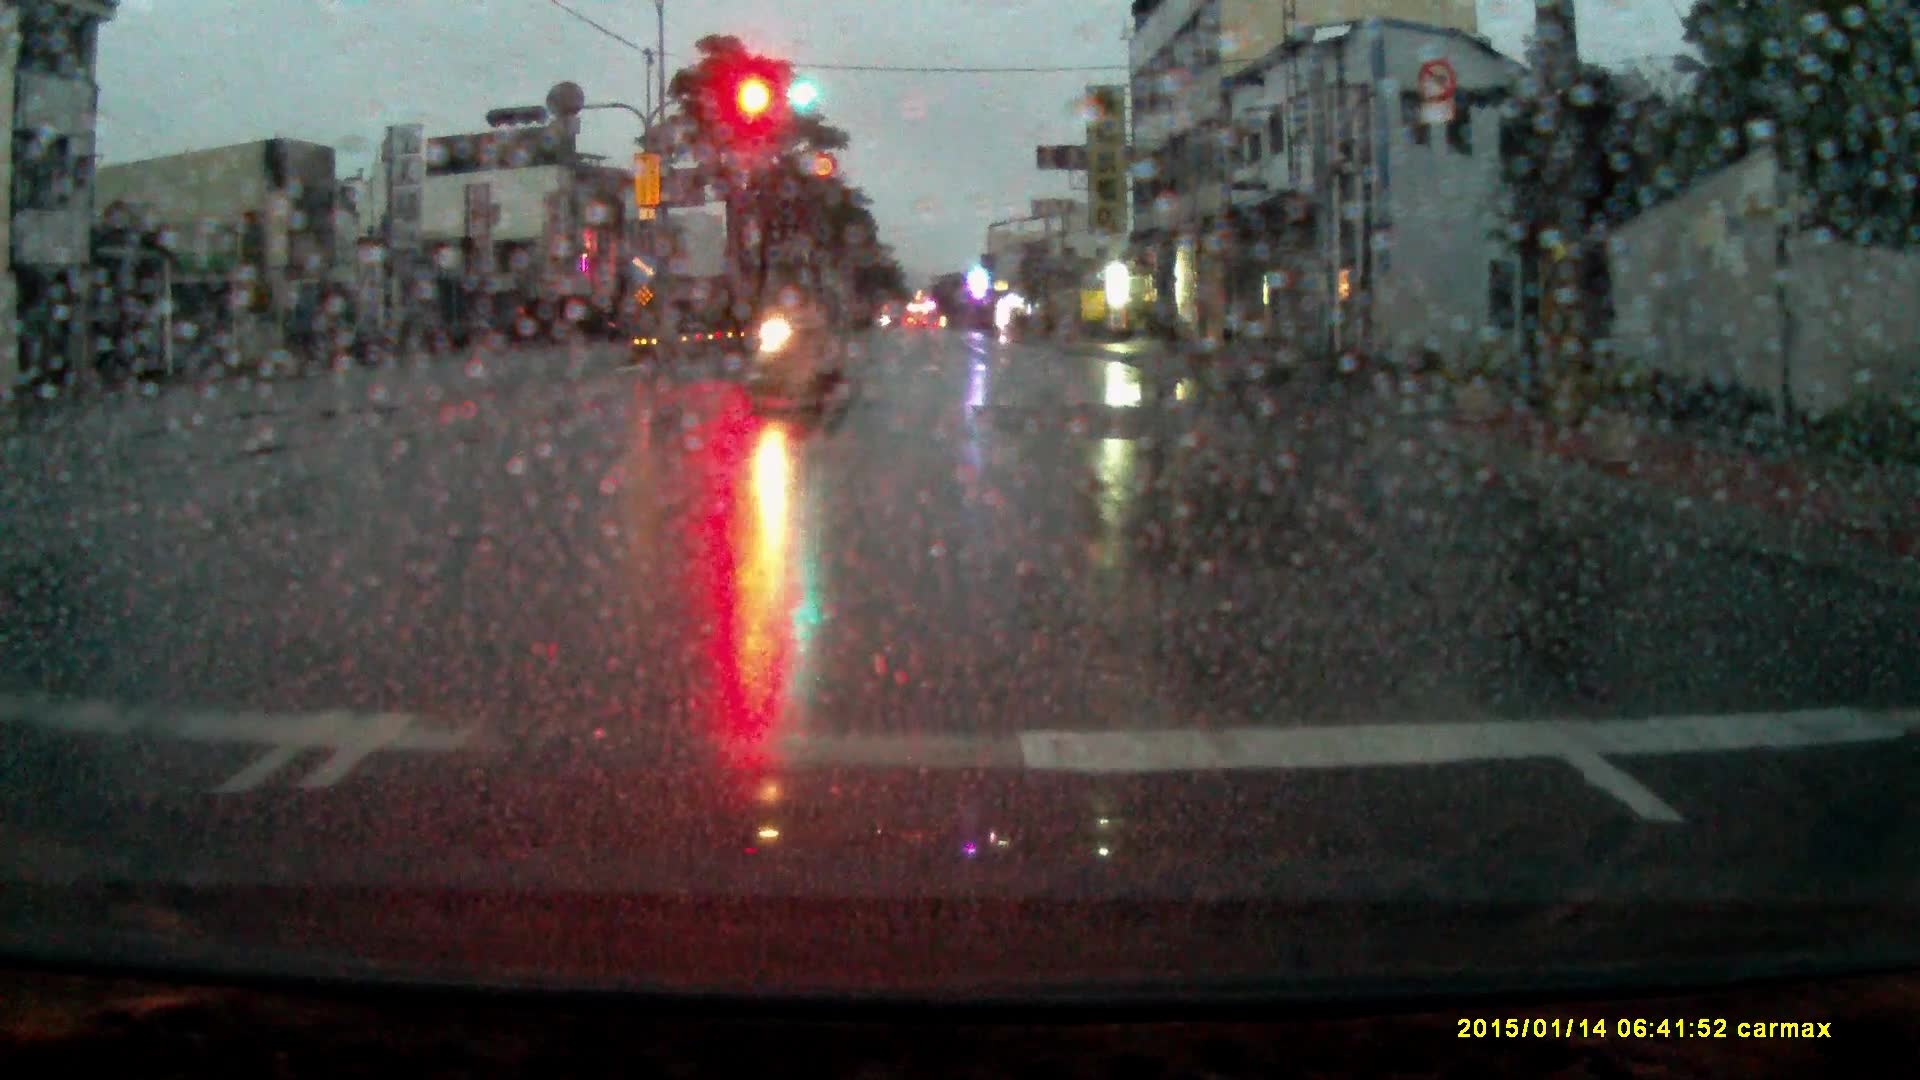rider: (745, 270, 840, 421)
